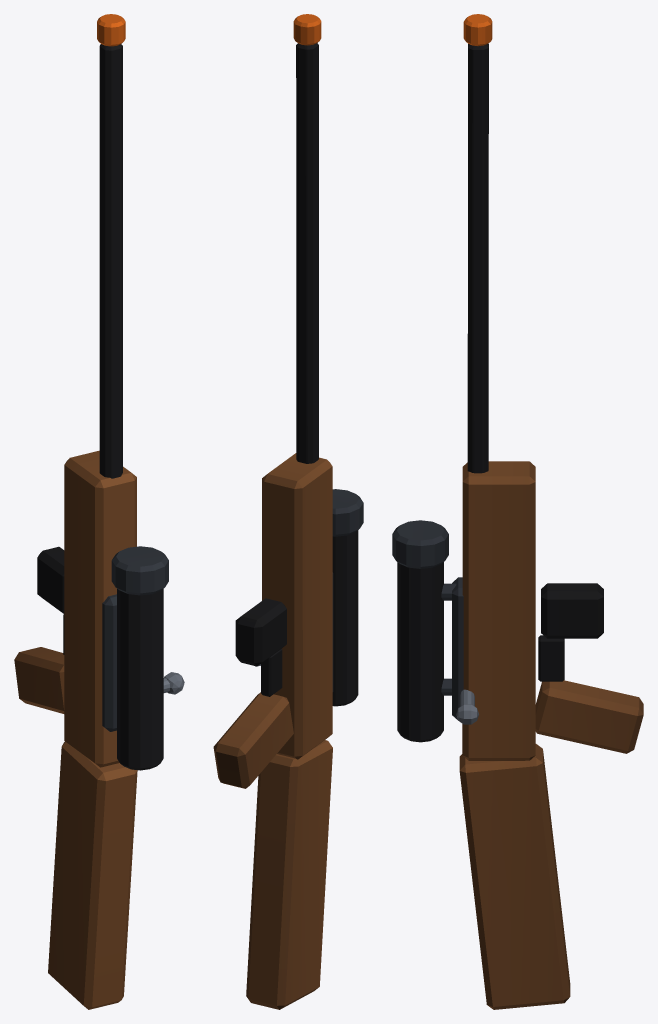
The model's file is longbow.glb.
3 renders of one model, left to right at view 1: azimuth 30°, elevation 25°; view 2: azimuth 150°, elevation 25°; view 3: azimuth 270°, elevation 25°, orthographic. The views are drawn at different scales.
Parts seen in each view (by area): view 1: longbow; view 2: longbow; view 3: longbow.
Part boxes in pixels (x1,y1,x2,y2): longbow: (14, 14, 184, 1009); longbow: (213, 14, 363, 1009); longbow: (392, 14, 643, 1009).
Bounding box in the file's own units: 0.0994 × 1.04 × 0.2402.
